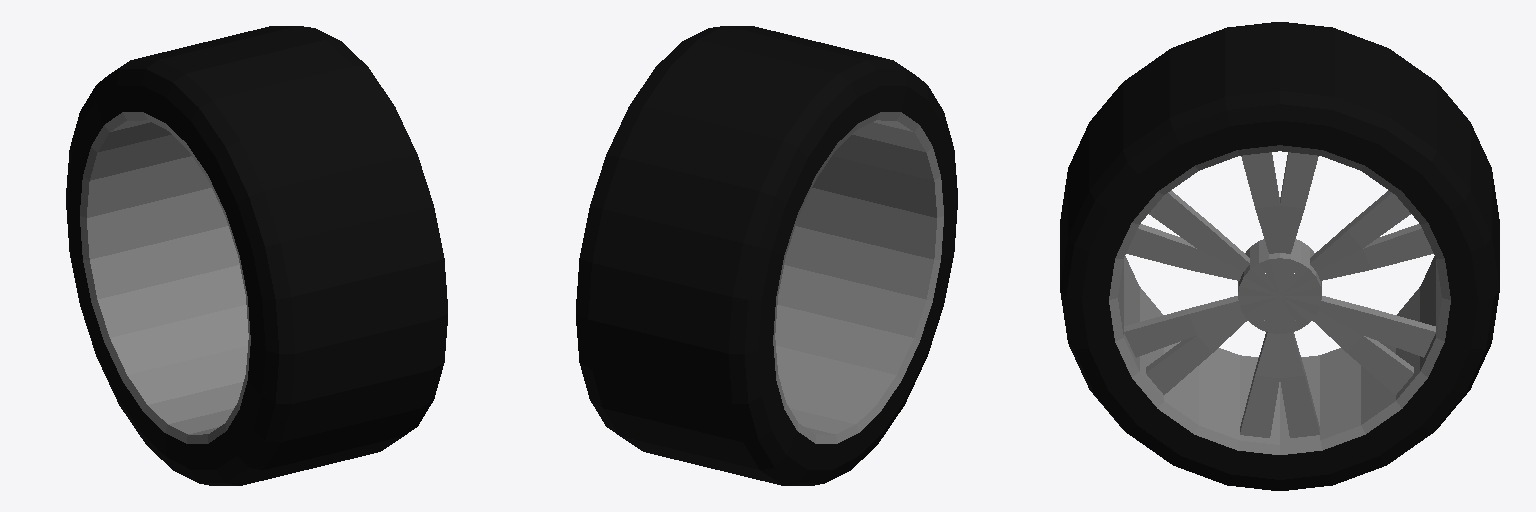
Rendered from wheel.obj.
3 views of the same model, side by side, from view 1: azimuth 30°, elevation 25°; view 2: azimuth 150°, elevation 25°; view 3: azimuth 270°, elevation 25° (orthographic).
Parts seen in each view (by area): view 1: wheel_Plane.002; view 2: wheel_Plane.002; view 3: wheel_Plane.002.
Boxes of the visible parts, box(x1,y1,x2,y2) form: wheel_Plane.002: box(66, 26, 447, 485); wheel_Plane.002: box(576, 26, 957, 485); wheel_Plane.002: box(1060, 22, 1499, 490).
Size of the model in its own units: 0.3239 by 0.6802 by 0.6802.